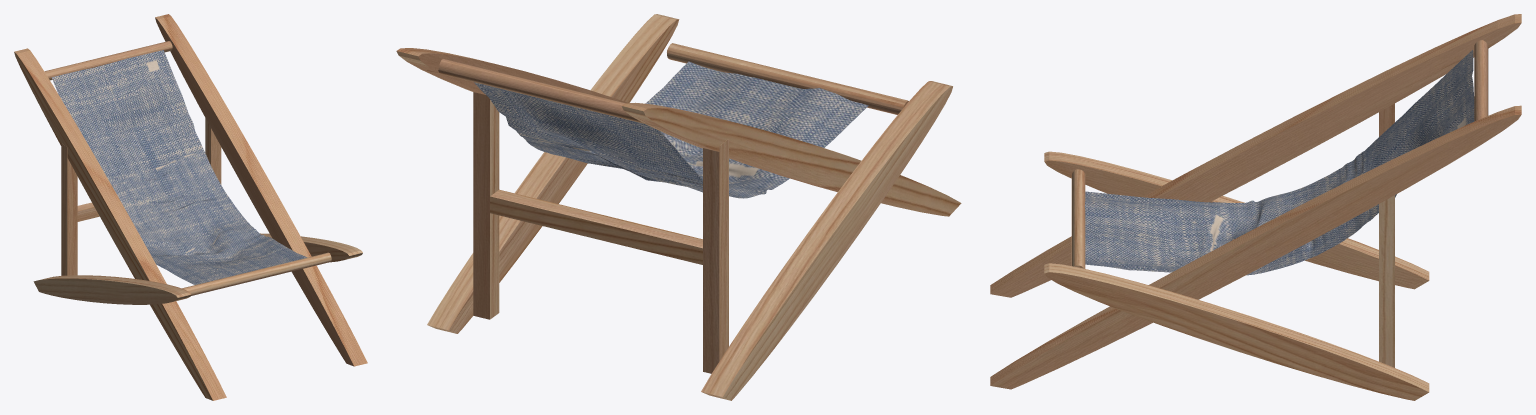
File: beachChair.fbx
The picture shows the model from 3 angles, left to right: view 1: azimuth 30°, elevation 25°; view 2: azimuth 150°, elevation 25°; view 3: azimuth 270°, elevation 25°; orthographic projection. The views are drawn at different scales.
Parts seen in each view (by area): view 1: Plane; view 2: Plane; view 3: Plane.
Part boxes in pixels (x1,y1,x2,y2): Plane: (14,14,367,400); Plane: (396,14,961,400); Plane: (990,14,1521,400).
Size of the model in its own units: 270 by 288 by 502.
